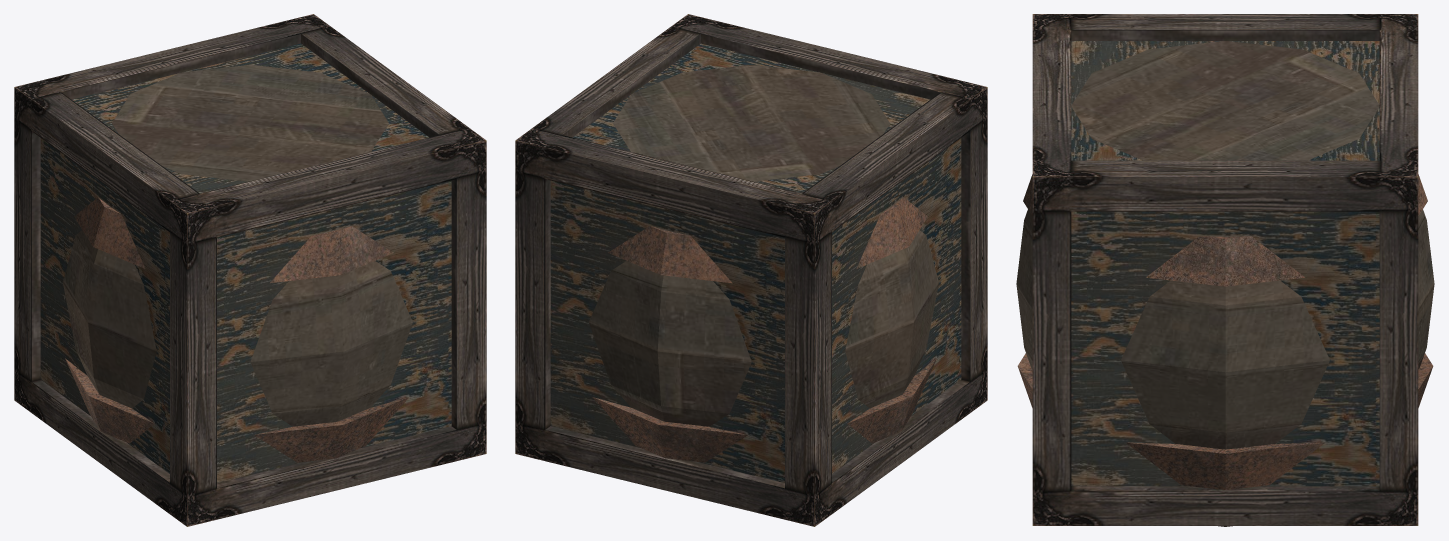
File: barrel-box_v2.glb
3 renders of one model, left to right at view 1: azimuth 30°, elevation 25°; view 2: azimuth 150°, elevation 25°; view 3: azimuth 270°, elevation 25°, orthographic. The views are drawn at different scales.
Visible parts, largest first — view 1: painted crate, dark barrel; view 2: painted crate, dark barrel; view 3: painted crate, dark barrel.
Part boxes in pixels (x1,y1,x2,y2): painted crate: (14,14,486,526); dark barrel: (63,64,412,462); painted crate: (515,14,987,526); dark barrel: (589,64,938,462); painted crate: (1032,14,1418,525); dark barrel: (1016,41,1434,526).
Bounding box in the file's own units: 0.6545 × 0.6325 × 0.6545.
4 materials, 4 textured.
